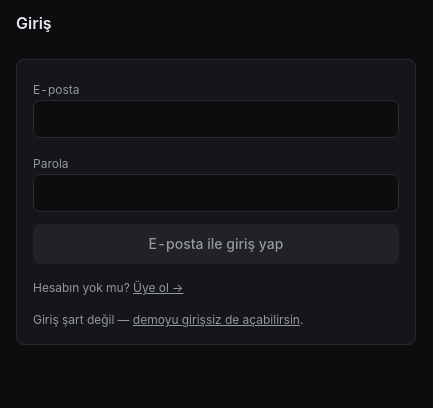
Test: LoginPage — email girişi › 401 → backend'in GENEL mesajı basılır; 'kayıtlı değil' gibi bir ayrım İCAT EDİLMEZ
Type "yok@b.com" into the field labelled "E-posta" at [216, 119], box [33, 100, 399, 138]
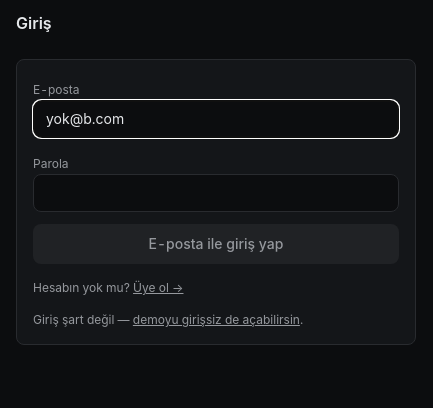
Type "yanlisparola" into the password field labelled "Parola" at [216, 193], box [33, 174, 399, 212]
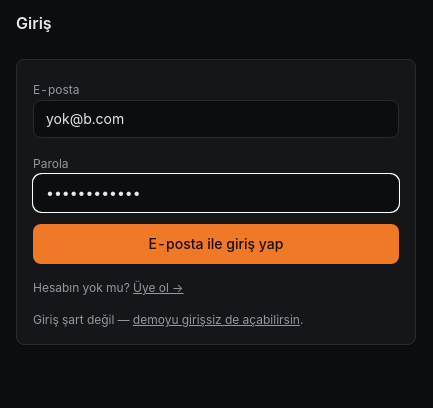
Click the button "E-posta ile giriş yap" at [216, 244], box [33, 224, 399, 264]
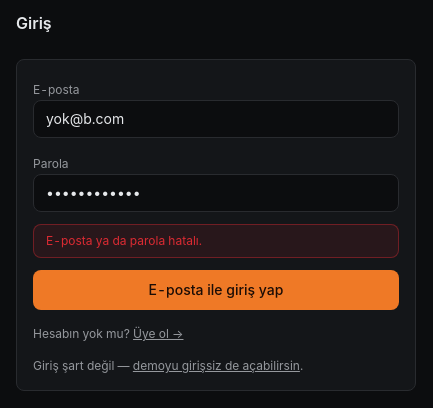
Expected: the text "E-posta ya da parola hatalı." is shown, [33, 224, 399, 258]
